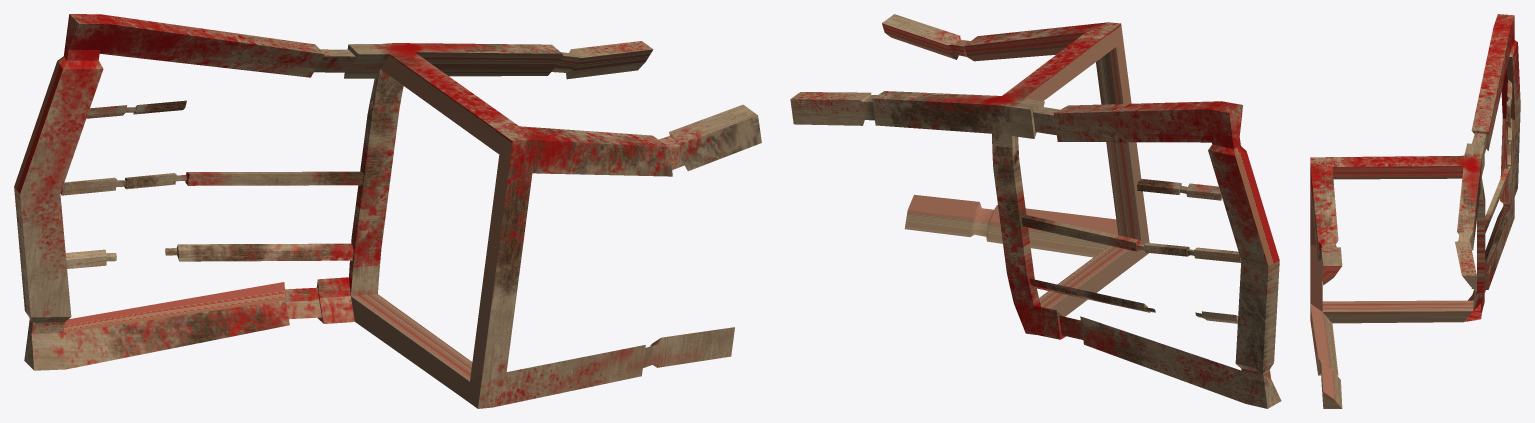
File: Silla_Prop_escenario02.fbx
3 renders of one model, left to right at view 1: azimuth 30°, elevation 25°; view 2: azimuth 150°, elevation 25°; view 3: azimuth 270°, elevation 25°, orthographic. The views are drawn at different scales.
Visible parts, largest first — view 1: pCube5; view 2: pCube5; view 3: pCube5.
Part boxes in pixels (x1,y1,x2,y2): pCube5: (14, 14, 761, 408); pCube5: (790, 14, 1281, 408); pCube5: (1310, 14, 1520, 408).
Size of the model in its own units: 17.63 by 10.13 by 8.32.
1 material, 1 textured.
